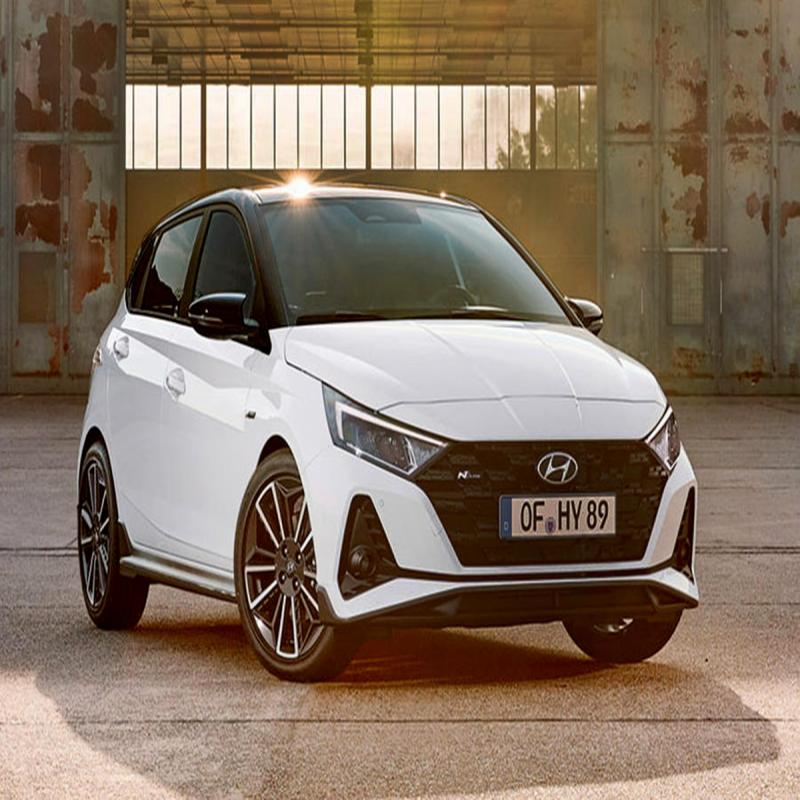car: (75, 151, 696, 684)
